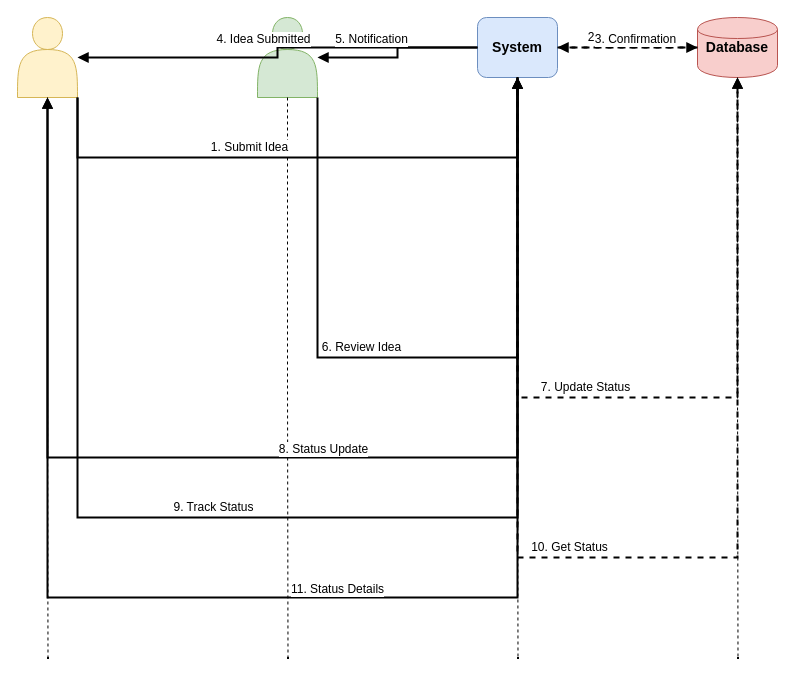
This 795x676 diagram has some shape labels left out. The box of each missing label's shape, as (x1, y1, x2, y2) in pixels:
Innovation\nTeam: (256, 16, 318, 98)
Staff: (16, 16, 78, 98)
